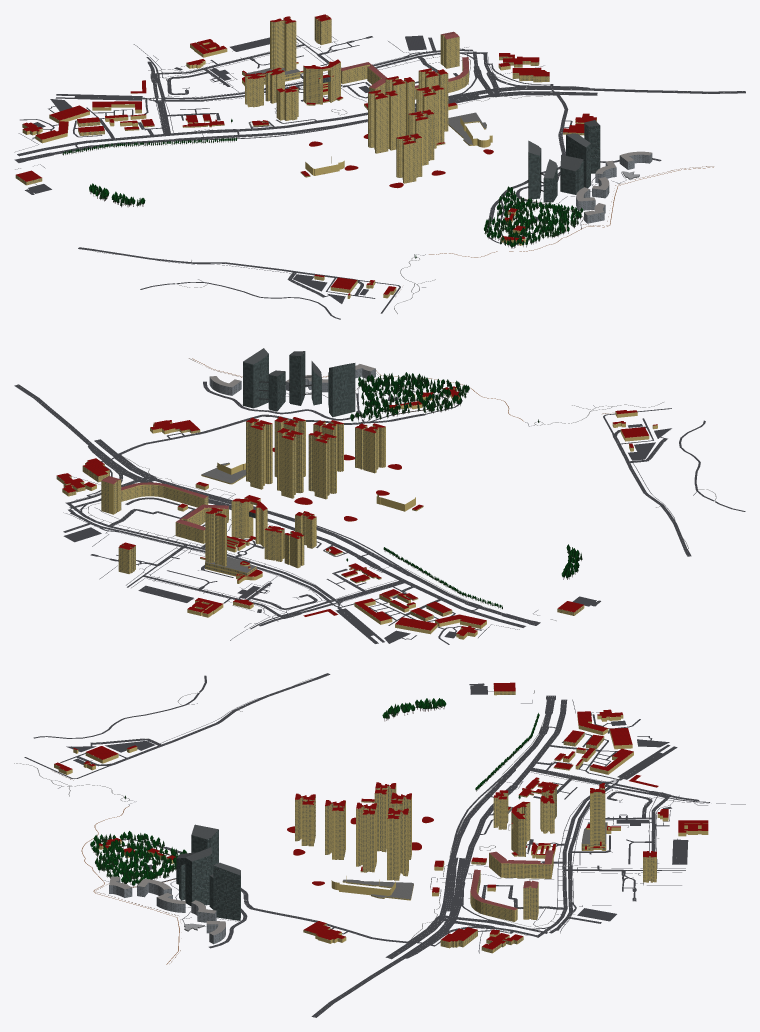
File: osm3d.glb
The picture shows the model from 3 angles, top to bottom: view 1: azimuth 30°, elevation 25°; view 2: azimuth 150°, elevation 25°; view 3: azimuth 270°, elevation 25°; orthographic projection. The views are drawn at different scales.
Parts seen in each view (by area): view 1: Plaster002, ASPHALT, Windows, RoofingTiles010, TextureAtlas b58fbcd2, GLASS_WALL, Concrete034.002, Concrete034.001, Concrete034, RoofingTiles010.001, Windows.001; view 2: Plaster002, ASPHALT, Windows, RoofingTiles010, GLASS_WALL, TextureAtlas b58fbcd2, Concrete034.001, Concrete034.002, RoofingTiles010.001; view 3: ASPHALT, Plaster002, RoofingTiles010, Windows, TextureAtlas b58fbcd2, GLASS_WALL, Concrete034.002, Concrete034.001, RoofingTiles010.001, Windows.001, Concrete034.
Boxes of the visible parts, x1,y1,x2,y2 form: Plaster002: [15, 16, 596, 298]; ASPHALT: [14, 35, 745, 319]; Windows: [16, 18, 584, 184]; RoofingTiles010: [16, 14, 596, 295]; TextureAtlas b58fbcd2: [62, 119, 582, 258]; GLASS_WALL: [323, 77, 600, 202]; Concrete034.002: [576, 151, 652, 223]; Concrete034.001: [15, 50, 555, 313]; Concrete034: [528, 120, 599, 178]; RoofingTiles010.001: [341, 31, 468, 88]; Windows.001: [576, 154, 652, 223]; Plaster002: [56, 388, 657, 639]; ASPHALT: [14, 378, 745, 644]; Windows: [56, 418, 582, 620]; RoofingTiles010: [57, 386, 657, 635]; GLASS_WALL: [243, 351, 355, 518]; TextureAtlas b58fbcd2: [346, 372, 582, 609]; Concrete034.001: [88, 399, 716, 620]; Concrete034.002: [209, 364, 375, 395]; RoofingTiles010.001: [101, 476, 228, 530]; ASPHALT: [24, 673, 745, 1017]; Plaster002: [54, 686, 708, 953]; RoofingTiles010: [54, 682, 708, 949]; Windows: [295, 691, 656, 952]; TextureAtlas b58fbcd2: [90, 698, 539, 887]; GLASS_WALL: [176, 829, 240, 920]; Concrete034.002: [109, 876, 225, 944]; Concrete034.001: [14, 678, 677, 941]; RoofingTiles010.001: [470, 850, 553, 910]; Windows.001: [109, 880, 225, 943]; Concrete034: [177, 824, 240, 877].
Bounding box in the file's own units: 1469 × 123 × 1317.
26 materials, 25 textured.
